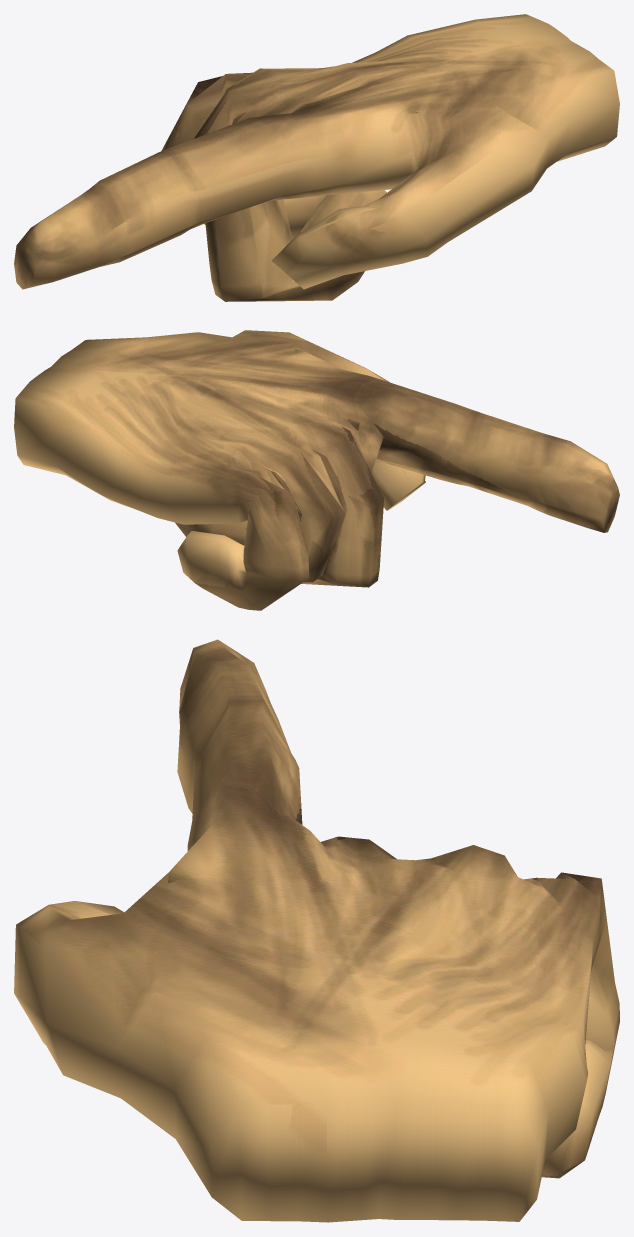
File: temp mesh_R_point1.glb
The picture shows the model from 3 angles, top to bottom: view 1: azimuth 30°, elevation 25°; view 2: azimuth 150°, elevation 25°; view 3: azimuth 270°, elevation 25°; orthographic projection. The views are drawn at different scales.
Visible parts, largest first — view 1: hand main instance_R; view 2: hand main instance_R; view 3: hand main instance_R.
Boxes of the visible parts, bbox=[...] form: hand main instance_R: bbox=[14, 14, 619, 301]; hand main instance_R: bbox=[14, 330, 619, 610]; hand main instance_R: bbox=[14, 639, 619, 1222].
Size of the model in its own units: 3.06 by 1.08 by 1.61.
1 material, 1 textured.
